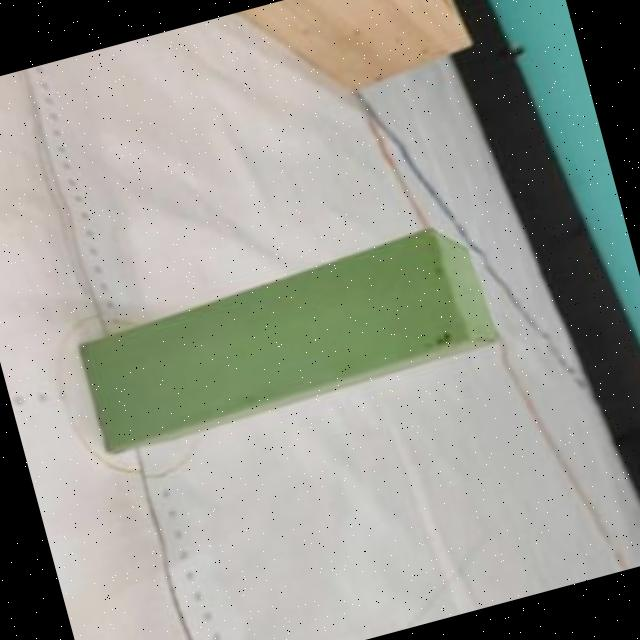greenbox: (70, 216, 507, 458)
